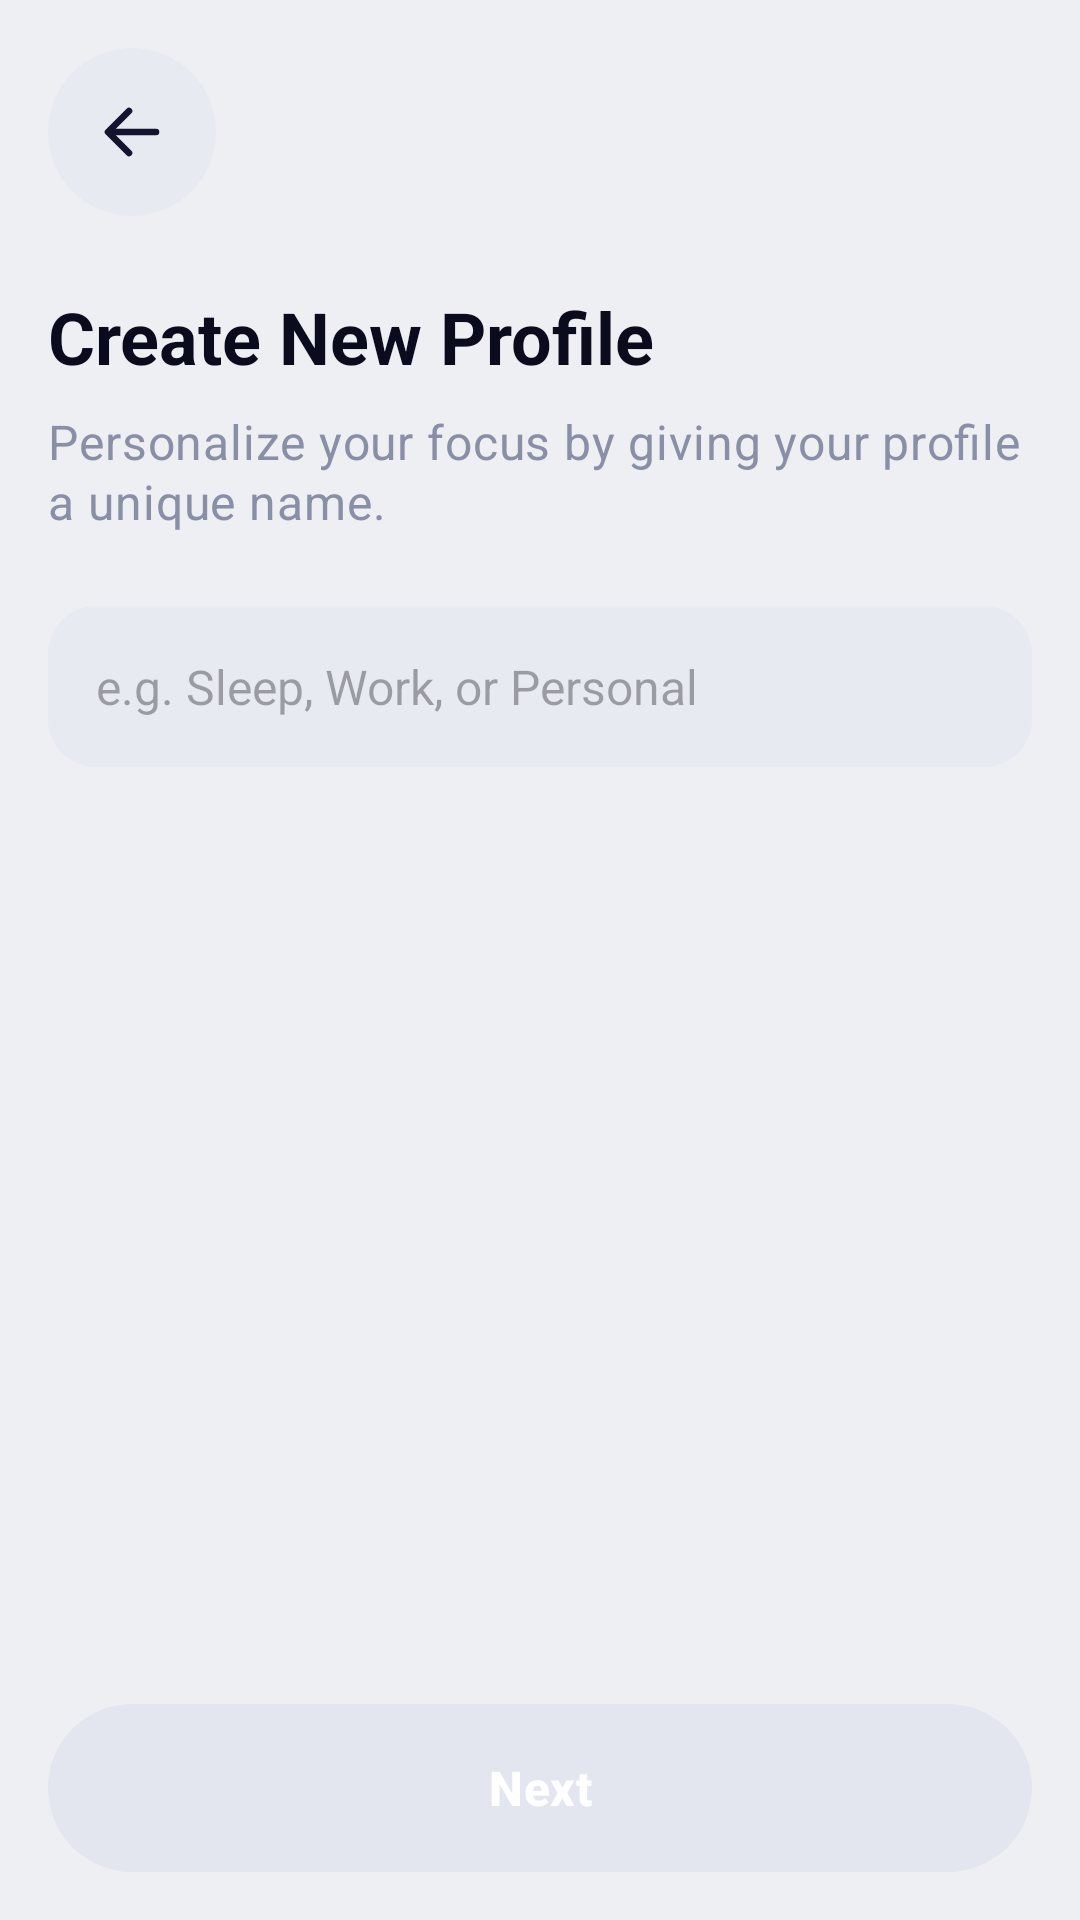

Screen size 1080×1920. Icon name, then its box in pixels as (x1, y1, x2, y2):
Back: (104, 107, 160, 157)
